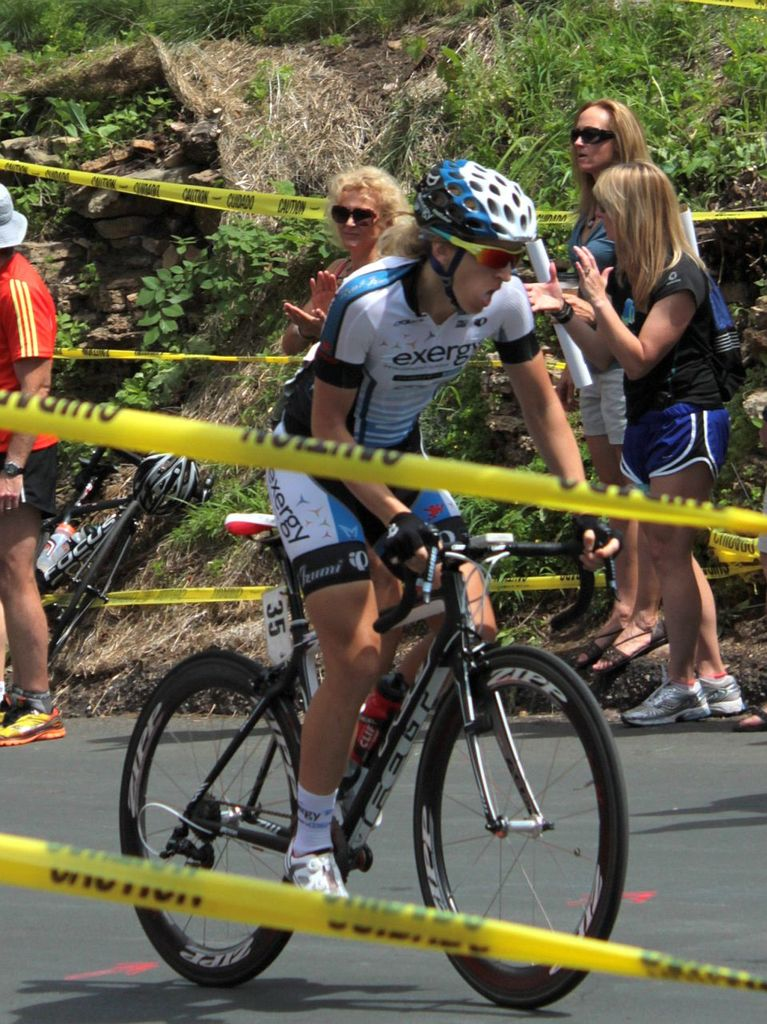Bike: (84, 509, 624, 1013)
